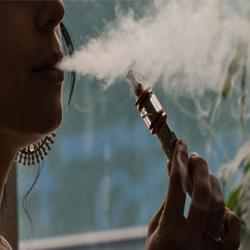cigarro: (125, 60, 214, 207)
fumador: (3, 3, 244, 245)
